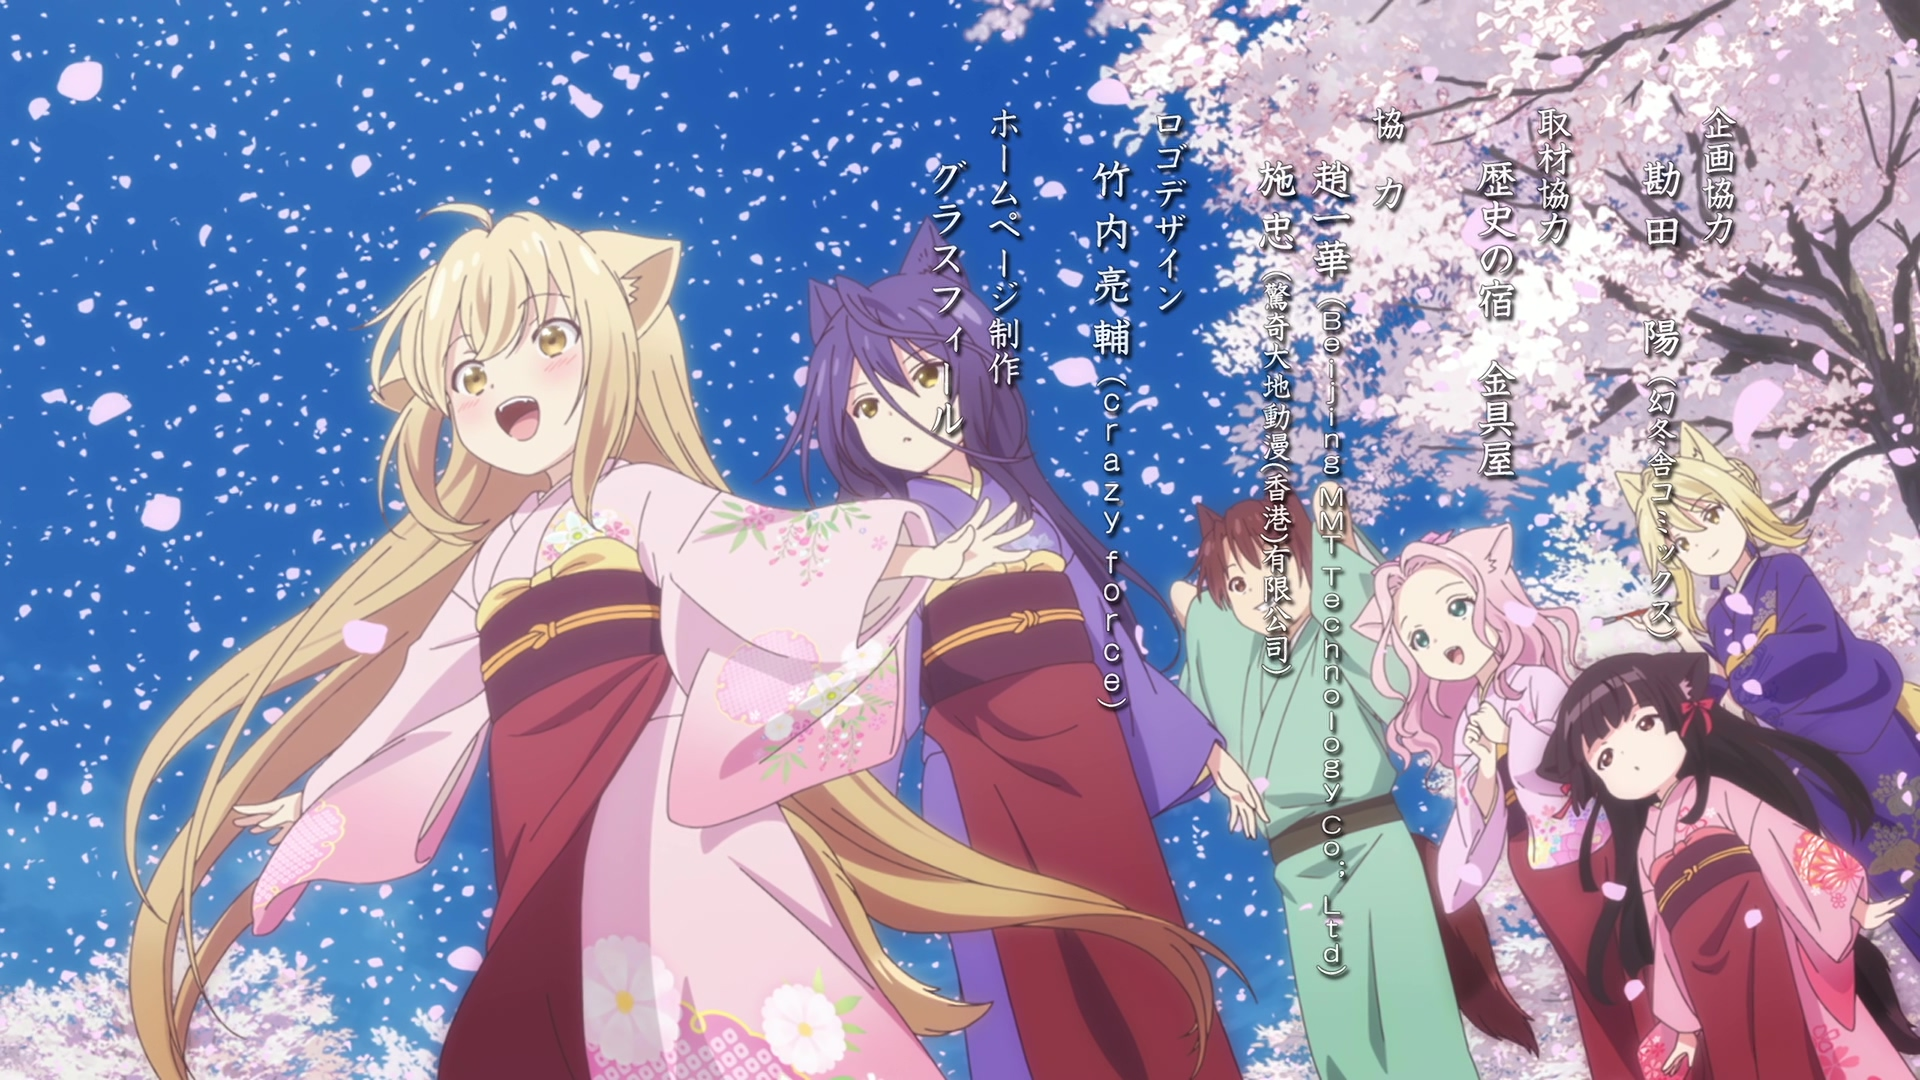枣: (1163, 473, 1536, 1080)
柚: (127, 202, 1258, 1080)
桐: (1618, 422, 1920, 957)
樱: (1536, 654, 1909, 1080)
皋: (771, 223, 1269, 1080)
莲: (1352, 522, 1654, 1080)
